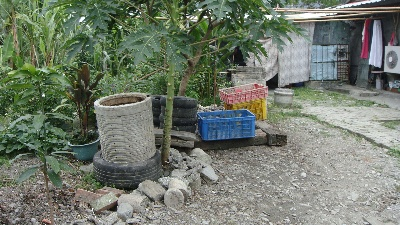tire: (90, 147, 163, 187), (161, 94, 198, 109), (159, 105, 198, 118), (161, 114, 195, 127)
